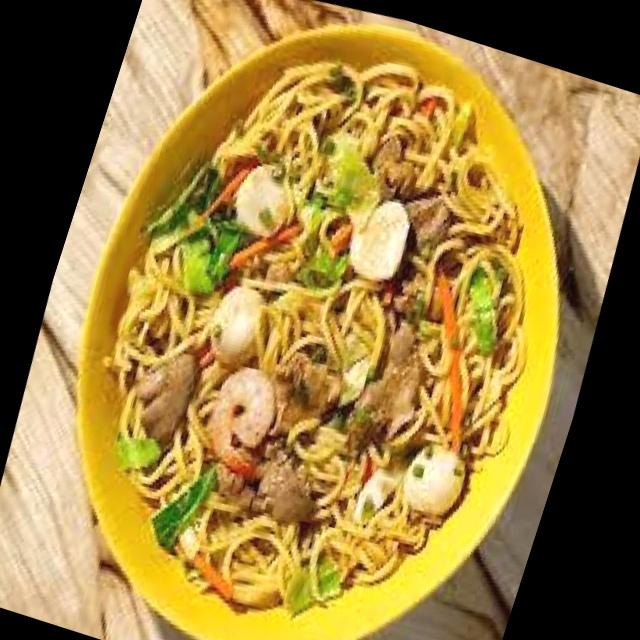pancit bihon: (118, 79, 518, 604)
